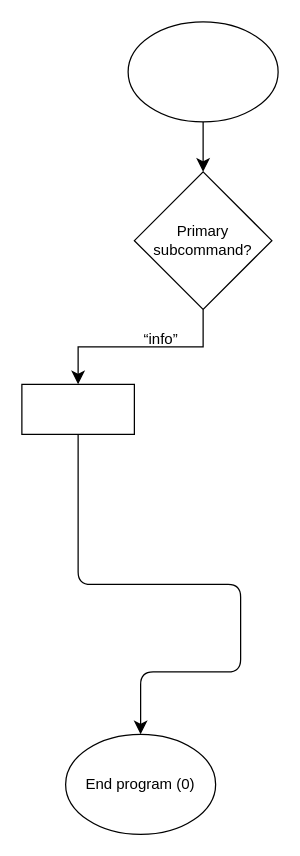
Some shapes in this 300 by 856 pixel diagram are drawn without their labels. Each missing label, with the centre of its shape:
"Print program info" goes at point 77,408.
"Start program" goes at point 202,71.
